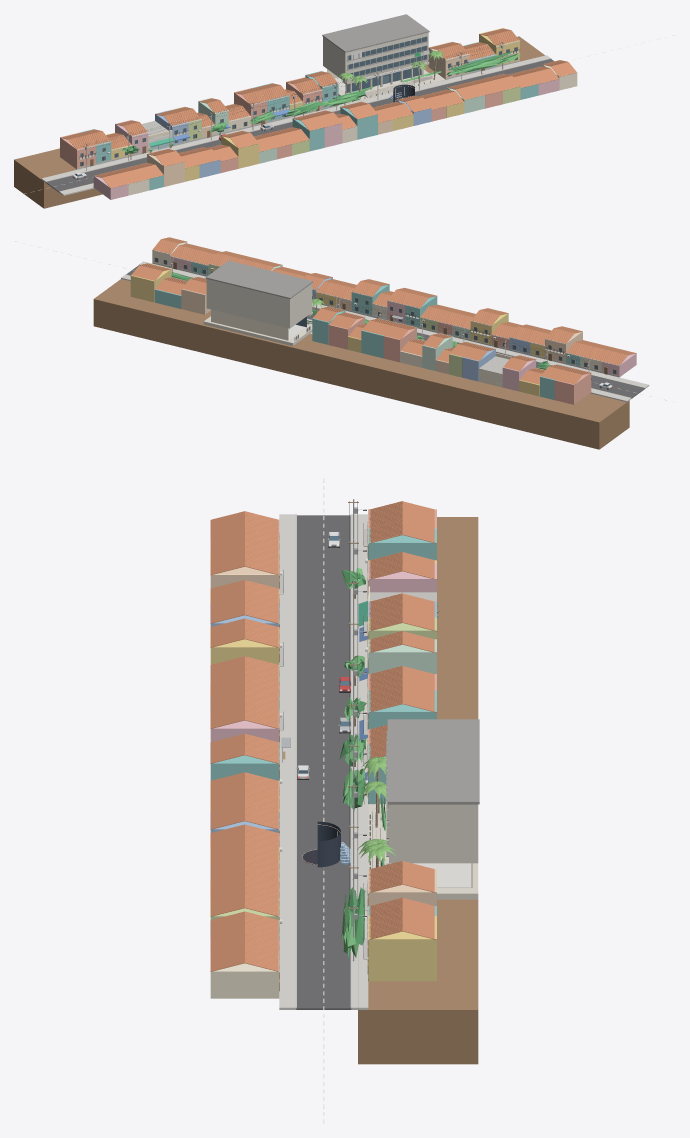
File: world.glb
The picture shows the model from 3 angles, top to bottom: view 1: azimuth 30°, elevation 25°; view 2: azimuth 150°, elevation 25°; view 3: azimuth 270°, elevation 25°; orthographic projection. The views are drawn at different scales.
Parts seen in each view (by area): view 1: FRONT roof_tile, roof_tile, stone, earth, stone_dark, FRONT asphalt, glass, plaster_coral, FRONT plaster_teal, sidewalk, FRONT plaster_yellow, FRONT plaster_pink (+23 smaller); view 2: earth, FRONT roof_tile, roof_tile, stone, stone_dark, plaster_coral, plaster_teal, plaster_cream, FRONT plaster_teal, FRONT sidewalk, plaster_yellow, FRONT plaster_pink (+12 smaller); view 3: FRONT roof_tile, FRONT asphalt, earth, roof_tile, FRONT sidewalk, stone_dark, stone, plaster_yellow, sidewalk, plaster_teal, FRONT plaster_cream, FRONT plant_leaf_dark (+13 smaller).
Part boxes in pixels (x1,y1,x2,y2): FRONT roof_tile: (93,60,576,188); roof_tile: (61,28,519,149); stone: (323,32,445,105); earth: (14,36,544,208); stone_dark: (322,14,430,101); FRONT asphalt: (46,59,553,192); glass: (80,36,517,165); plaster_coral: (60,77,322,169); FRONT plaster_teal: (149,84,538,190); sidewalk: (41,55,548,181); FRONT plaster_yellow: (185,102,464,181); FRONT plaster_pink: (93,79,559,199); earth: (93,279,629,449); FRONT roof_tile: (153,237,636,365); roof_tile: (131,263,590,384); stone: (203,279,312,345); stone_dark: (205,260,313,298); plaster_coral: (328,312,591,404); plaster_teal: (154,277,570,399); plaster_cream: (211,309,511,387); FRONT plaster_teal: (191,261,580,366); FRONT sidewalk: (124,261,649,399); plaster_yellow: (130,263,544,396); FRONT plaster_pink: (170,256,636,376); FRONT roof_tile: (210,511,279,971); FRONT asphalt: (296,515,351,1009); earth: (358,517,478,1064); roof_tile: (369,501,436,939); FRONT sidewalk: (279,514,357,1009); stone_dark: (369,719,479,868); stone: (368,731,478,899); plaster_yellow: (368,560,436,981); sidewalk: (358,514,368,1009); plaster_teal: (368,528,436,915); FRONT plaster_cream: (210,537,279,998); FRONT plant_leaf_dark: (339,569,366,958).
Bounding box in the file's own units: 222 × 24.6 × 39.22.
